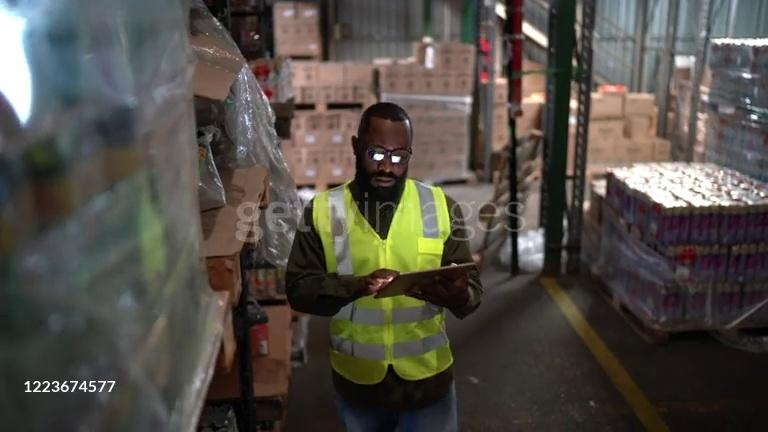person: (285, 101, 483, 432)
